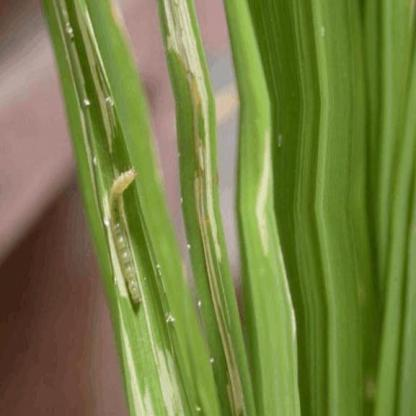leaf-folder: (95, 159, 174, 338)
